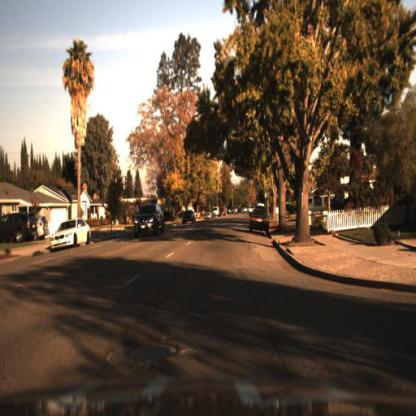car: (130, 200, 169, 243), (50, 219, 92, 251), (132, 201, 167, 239), (1, 212, 38, 244), (306, 191, 332, 216), (249, 206, 271, 235), (182, 209, 197, 227)
